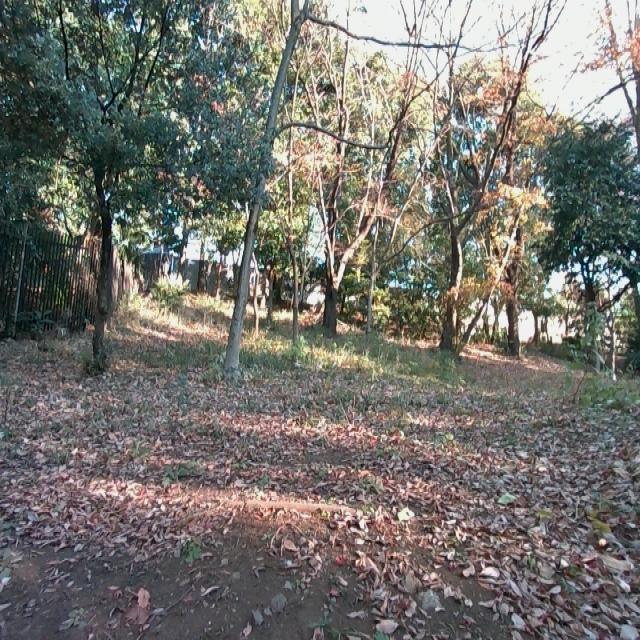artifact: (0, 217, 272, 322)
tree: (48, 0, 168, 370), (422, 0, 525, 365), (219, 0, 317, 379), (312, 0, 408, 339)
